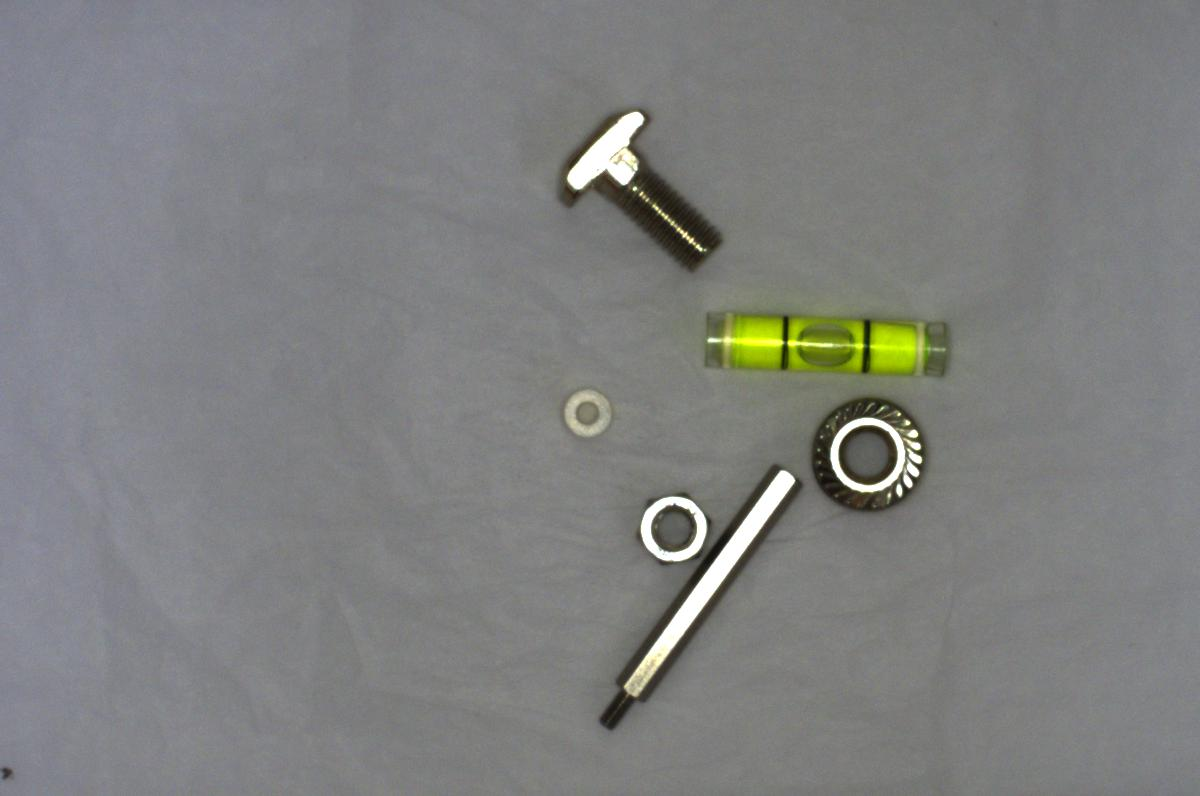Flange nut: (796, 394, 944, 513)
Hexagon nut: (628, 480, 716, 565)
Hexagonal steel column: (587, 456, 802, 730)
Horizontal bubble: (698, 285, 956, 387)
Plastic cushion pillar: (558, 378, 621, 445)
T-shaped screw: (556, 104, 723, 272)
